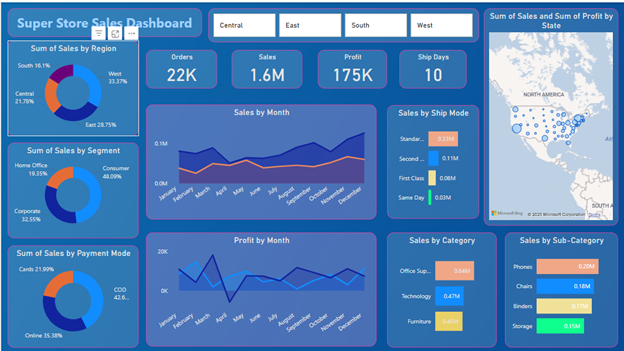

What the dashboard file says about the page in this screenshot:
{"tool":"powerbi","page":{"name":"Page 1","canvas":[1280,720],"ordinal":0},"visuals":[{"type":"clusteredBarChart","title":"Sales by Category","fields":{"Category":["SuperStore_Sales_Dataset.Category"],"Y":["Sum(SuperStore_Sales_Dataset.Sales)"]},"box":[791.7,471.7,224.8,235.9],"z":0},{"type":"clusteredBarChart","title":"Sales by Sub-Category","fields":{"Category":["SuperStore_Sales_Dataset.Sub-Category"],"Y":["Sum(SuperStore_Sales_Dataset.Sales)"]},"box":[1034.5,471.7,231.7,235.9],"z":1000},{"type":"clusteredBarChart","title":"Sales by Ship Mode","fields":{"Category":["SuperStore_Sales_Dataset.Ship Mode"],"Y":["Sum(SuperStore_Sales_Dataset.Sales)"]},"box":[791.7,211,189,233.1],"z":2000},{"type":"areaChart","title":"Sales by Month ","fields":{"Y":["Sum(SuperStore_Sales_Dataset.Sales)"],"Category":["SuperStore_Sales_Dataset.Order Date.Variation.Date Hierarchy.Month"],"Series":["SuperStore_Sales_Dataset.Order Date.Variation.Date Hierarchy.Year"]},"box":[297.4,209.5,473.2,236],"z":3000},{"type":"areaChart","title":"Profit by Month","fields":{"Category":["SuperStore_Sales_Dataset.Order Date.Variation.Date Hierarchy.Month"],"Series":["SuperStore_Sales_Dataset.Order Date.Variation.Date Hierarchy.Year"],"Y":["Sum(SuperStore_Sales_Dataset.Profit)"]},"box":[297.4,472,473.2,233.6],"z":4000},{"type":"map","fields":{"Category":["SuperStore_Sales_Dataset.State"],"Size":["Sum(SuperStore_Sales_Dataset.Sales)"]},"box":[990.3,12.4,275.9,445.5],"z":5000},{"type":"donutChart","fields":{"Category":["SuperStore_Sales_Dataset.Segment"],"Y":["Sum(SuperStore_Sales_Dataset.Sales)"]},"box":[13.8,288.3,269,195.9],"z":6000},{"type":"donutChart","fields":{"Y":["Sum(SuperStore_Sales_Dataset.Sales)"],"Category":["SuperStore_Sales_Dataset.Payment Mode"]},"box":[13.8,497.9,269,209.7],"z":7000},{"type":"advancedSlicerVisual","fields":{"Values":["SuperStore_Sales_Dataset.Region"]},"box":[424.8,12.4,555.9,70.3],"z":8000},{"type":"textbox","box":[13.8,12.4,398.6,59.3],"z":9000},{"type":"card","title":"Sales","fields":{"Values":["Sum(SuperStore_Sales_Dataset.Sales)"]},"box":[473.1,97.9,144.8,78.6],"z":10000},{"type":"card","title":"Orders","fields":{"Values":["Sum(SuperStore_Sales_Dataset.Quantity)"]},"box":[297.9,97.9,146.2,78.6],"z":11000},{"type":"card","title":"Profit","fields":{"Values":["Sum(SuperStore_Sales_Dataset.Profit)"]},"box":[649.7,97.9,142.1,78.6],"z":12000},{"type":"card","title":"Ship Days","fields":{"Values":["Avg(SuperStore_Sales_Dataset.AvgDelivery)"]},"box":[817.9,97.9,137.9,78.6],"z":13000},{"type":"donutChart","fields":{"Category":["SuperStore_Sales_Dataset.Region"],"Y":["Sum(SuperStore_Sales_Dataset.Sales)"]},"box":[13.8,78.6,269,195.9],"z":14000}]}

Visuals, with their boxes in screenshot pixels (x1, y1, x2, y2), scaled from the page's 1280x720 canvas onto the 624x351 screenshot:
"Sales by Category" clusteredBarChart: [386,230,496,345]
"Sales by Sub-Category" clusteredBarChart: [504,230,617,345]
"Sales by Ship Mode" clusteredBarChart: [386,103,478,216]
"Sales by Month " areaChart: [145,102,376,217]
"Profit by Month" areaChart: [145,230,376,344]
map - SuperStore_Sales_Dataset.State x Sum(SuperStore_Sales_Dataset.Sales): [483,6,617,223]
donutChart - SuperStore_Sales_Dataset.Segment x Sum(SuperStore_Sales_Dataset.Sales): [7,141,138,236]
donutChart - Sum(SuperStore_Sales_Dataset.Sales) x SuperStore_Sales_Dataset.Payment Mode: [7,243,138,345]
advancedSlicerVisual - SuperStore_Sales_Dataset.Region: [207,6,478,40]
textbox: [7,6,201,35]
"Sales" card: [231,48,301,86]
"Orders" card: [145,48,216,86]
"Profit" card: [317,48,386,86]
"Ship Days" card: [399,48,466,86]
donutChart - SuperStore_Sales_Dataset.Region x Sum(SuperStore_Sales_Dataset.Sales): [7,38,138,134]
